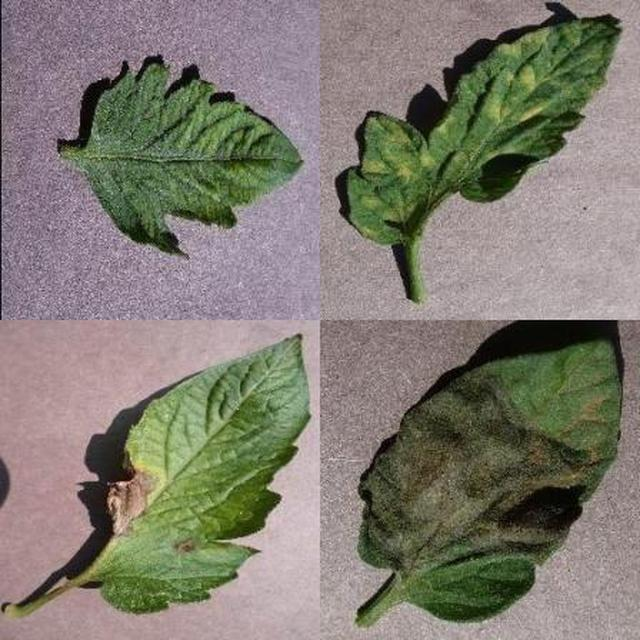Mosaic Virus Leaf: (273, 187, 640, 640)
